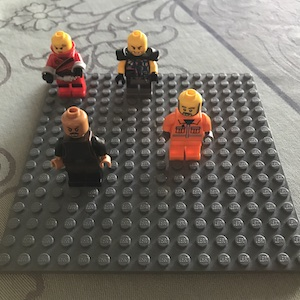Lego: (50, 106, 113, 190), (160, 89, 210, 160), (41, 30, 86, 98), (115, 30, 157, 101)
